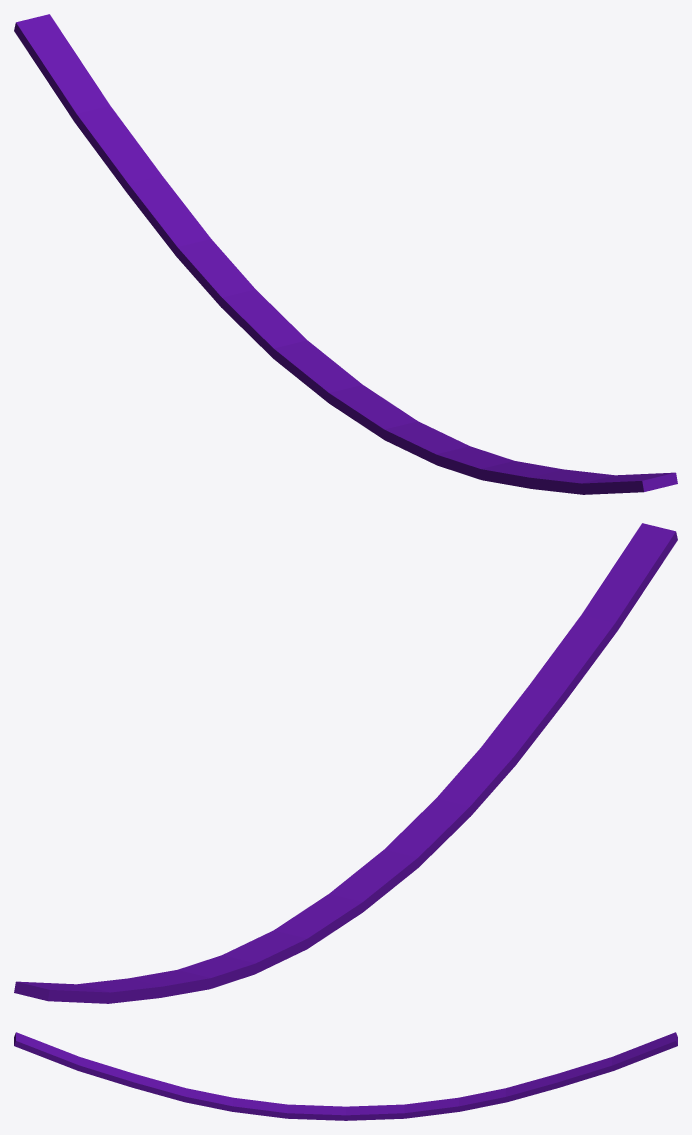
Rendered from Tape_5.002_chunks.fbx.
3 renders of one model, top to bottom at view 1: azimuth 30°, elevation 25°; view 2: azimuth 150°, elevation 25°; view 3: azimuth 270°, elevation 25°, orthographic. The views are drawn at different scales.
Parts seen in each view (by area): view 1: Tape_5.002_2, Tape_5.002_3, Tape_5.002_0; view 2: Tape_5.002_3, Tape_5.002_2, Tape_5.002_0; view 3: Tape_5.002_3, Tape_5.002_2, Tape_5.002_0.
Boxes of the visible parts, <box> form: Tape_5.002_2: <box>75,123,370,414</box>; Tape_5.002_3: <box>344,391,677,494</box>; Tape_5.002_0: <box>14,14,142,149</box>; Tape_5.002_3: <box>340,523,677,897</box>; Tape_5.002_2: <box>109,886,380,1003</box>; Tape_5.002_0: <box>14,980,130,1003</box>; Tape_5.002_3: <box>14,1032,335,1120</box>; Tape_5.002_2: <box>330,1064,599,1120</box>; Tape_5.002_0: <box>578,1032,677,1076</box>.
Size of the model in its own units: 24.08 by 103 by 776.
